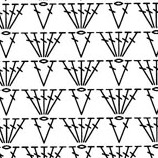enseble_chain: (33, 26, 71, 64), (109, 84, 146, 121), (35, 84, 71, 121), (74, 56, 109, 92), (75, 113, 110, 149), (0, 57, 34, 93), (0, 114, 34, 149), (0, 0, 33, 35), (75, 0, 108, 35), (92, 25, 123, 62), (114, 28, 146, 63), (55, 112, 84, 148), (108, 58, 139, 91), (35, 115, 64, 149), (110, 115, 139, 148), (59, 56, 86, 90), (21, 86, 48, 119), (35, 59, 62, 90), (133, 0, 158, 33), (134, 112, 158, 146), (111, 2, 138, 32), (36, 2, 62, 33), (72, 30, 98, 61), (59, 0, 84, 32), (134, 57, 158, 90), (102, 115, 126, 147), (0, 31, 24, 62), (0, 89, 23, 119), (28, 1, 50, 32), (140, 29, 158, 60)
fan: (134, 56, 158, 90), (99, 28, 123, 60), (135, 113, 158, 146), (102, 87, 124, 117), (112, 30, 129, 59), (76, 1, 93, 29), (73, 117, 89, 143), (0, 118, 14, 144)
